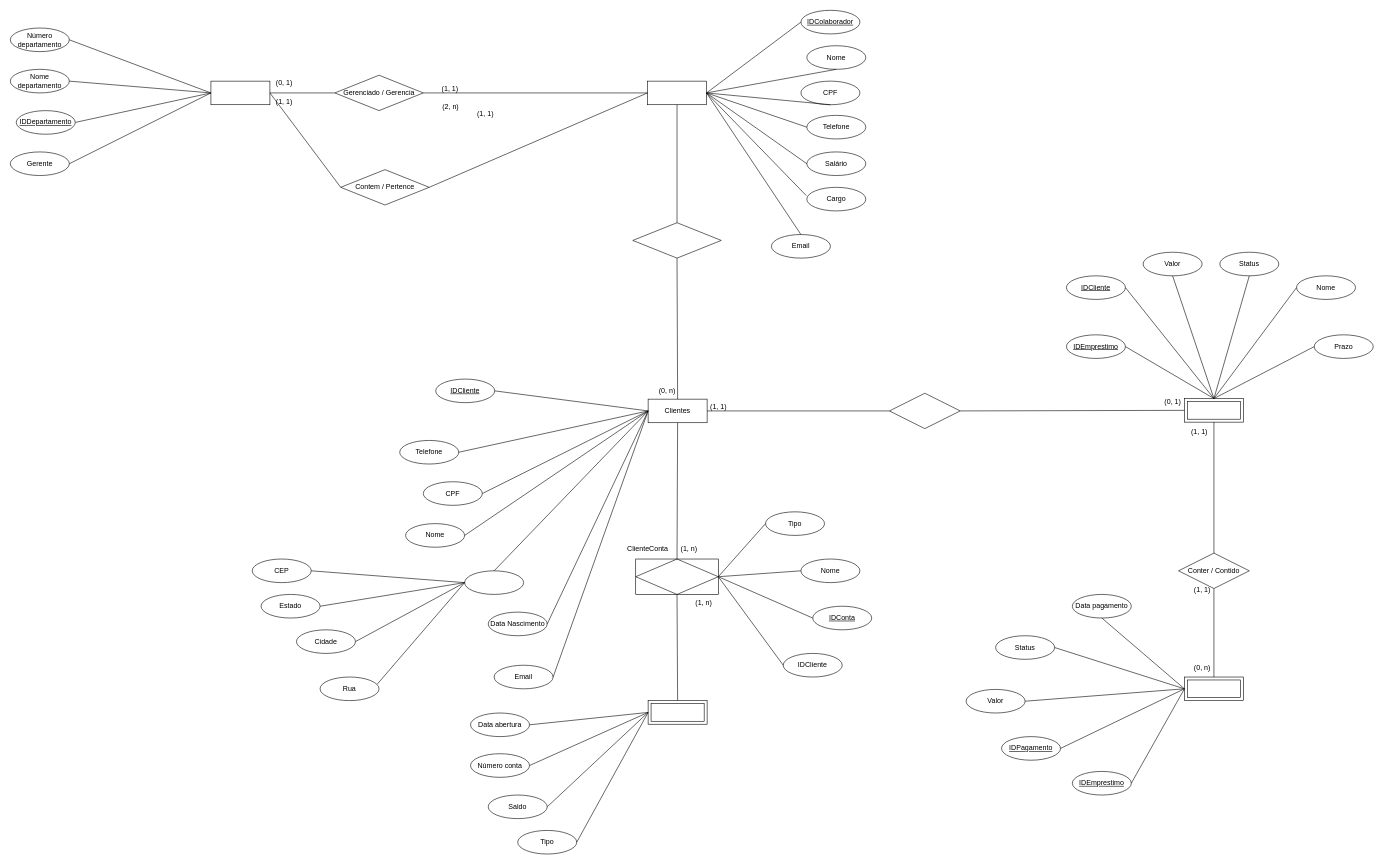
Image size: 1384x864. Some labels were removed from this diagram. The centre of each missing label's shape, as x and y in pixels:
"Colaboradores" belongs at (677,93).
"Conta" belongs at (677,712).
"Departamentos" belongs at (240,93).
"Empréstimo" belongs at (1213,410).
"Endereço" belongs at (494,582).
"Fazer / Feito" belongs at (924,411).
"Gerenciar / Gerenciados" belongs at (676,240).
"Pagamentos" belongs at (1213,688).
"Possuir / Pertencer" belongs at (676,576).
